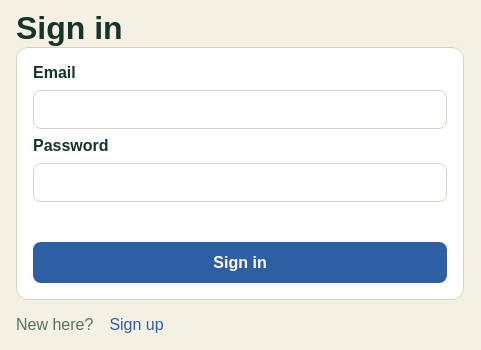
Test: an unreachable backend says where it looked
Type "dana@example.com" into the field labelled "Email". click: (240, 110)
box: [33,90,447,129]
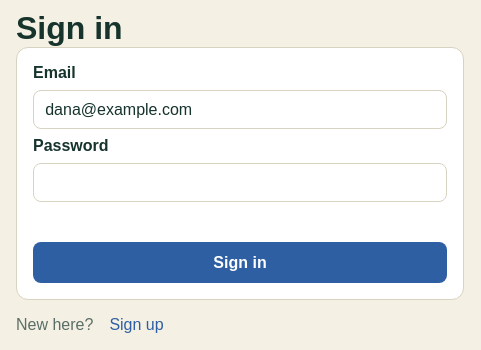
Type "cornhole1" into the password field labelled "Password". click: (240, 183)
box: [33,163,447,202]
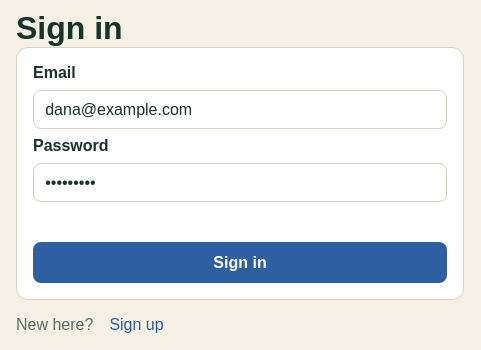
Click the button "Sign in". click: (240, 263)
box: [33,242,447,283]
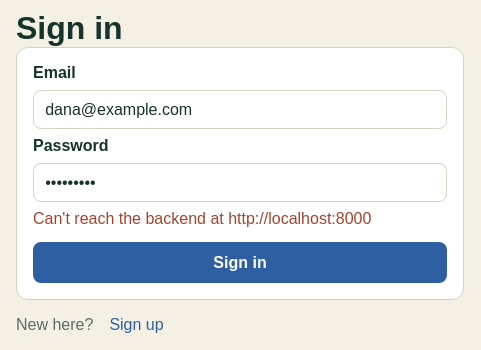
Now the text "Can't reach the backend at http://localhost:8000" is shown, box [33,210,371,227]
